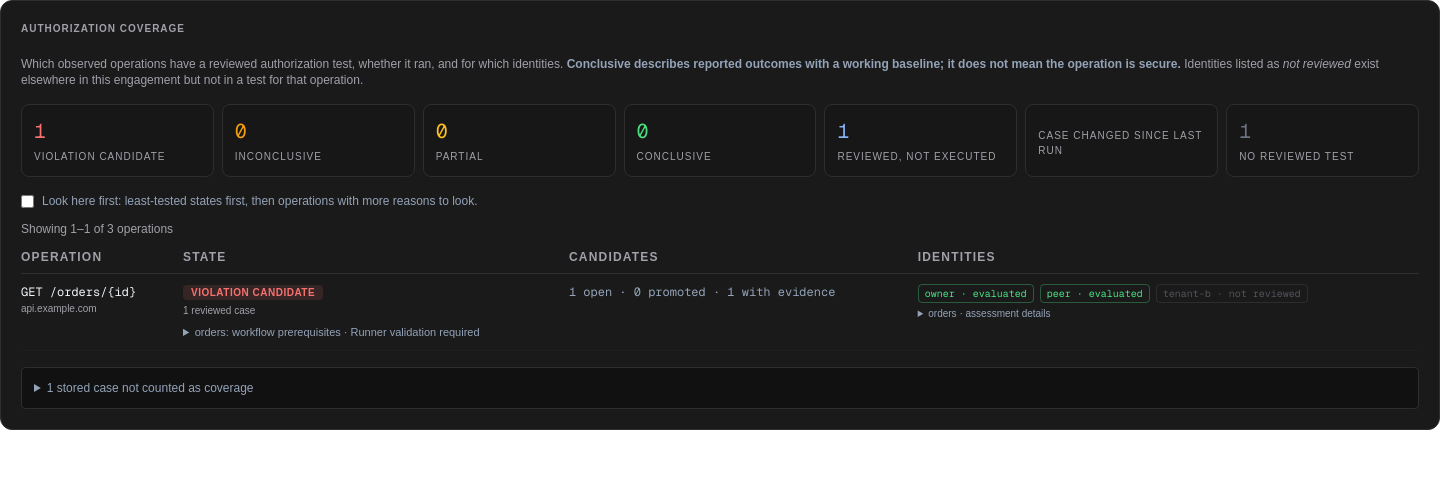
Scenario: AuthorizationCoveragePanel › explains the missing proof on a historical HTTP-only result
Click the heading "orders · assessment details" at (989, 314), box [928,308,1051,319]
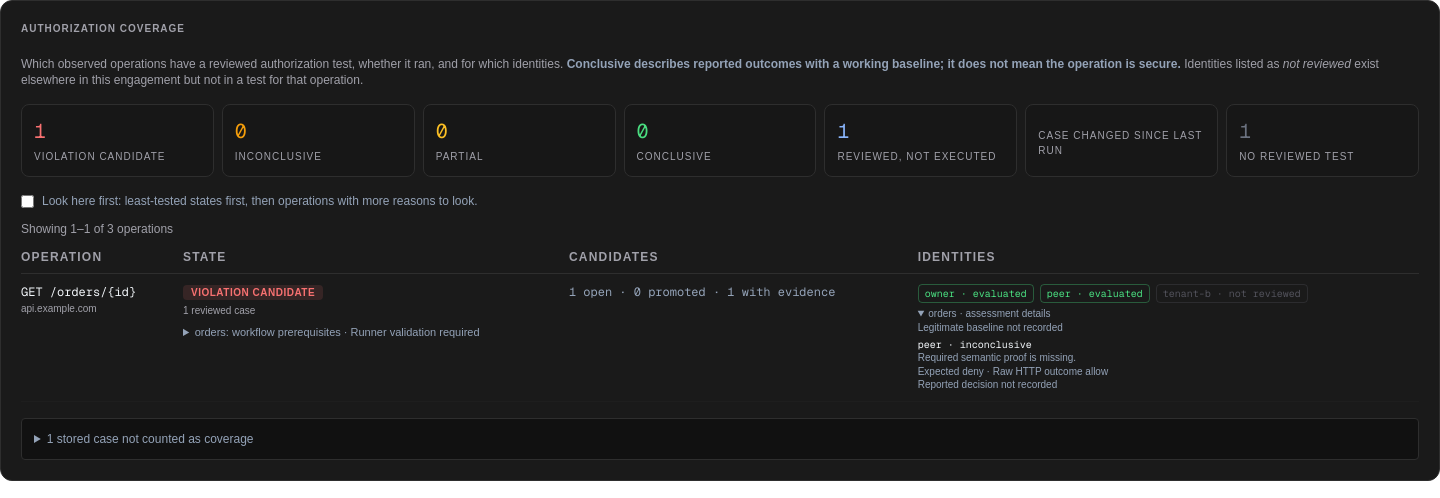
Expected: the text "Required semantic proof is missing." is shown, [918,352,1076,363]
Expected: the text "Expected deny · Raw HTTP outcome allow" is shown, [918,366,1108,377]
Expected: the text "Reported decision not recorded" is shown, [918,379,1057,390]
